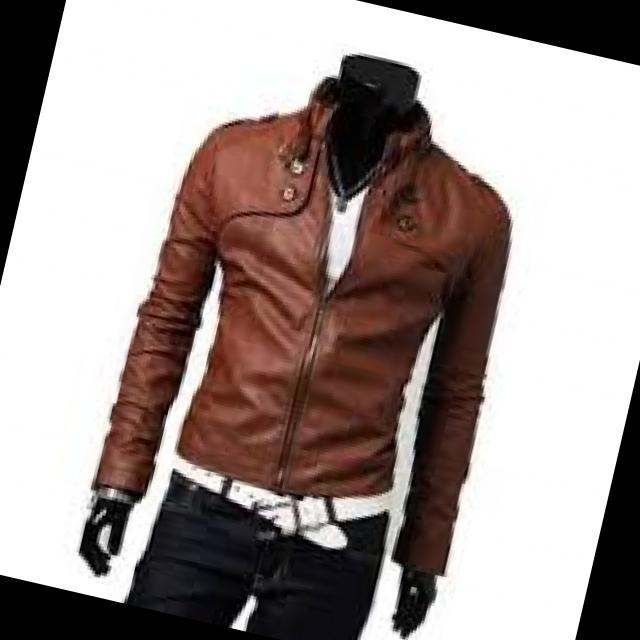Jacket: (38, 64, 594, 614)
